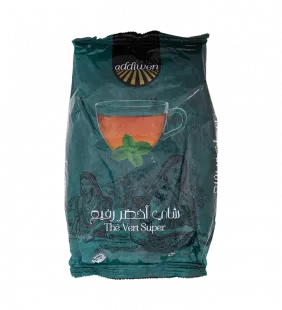OCT: (59, 21, 228, 284)
